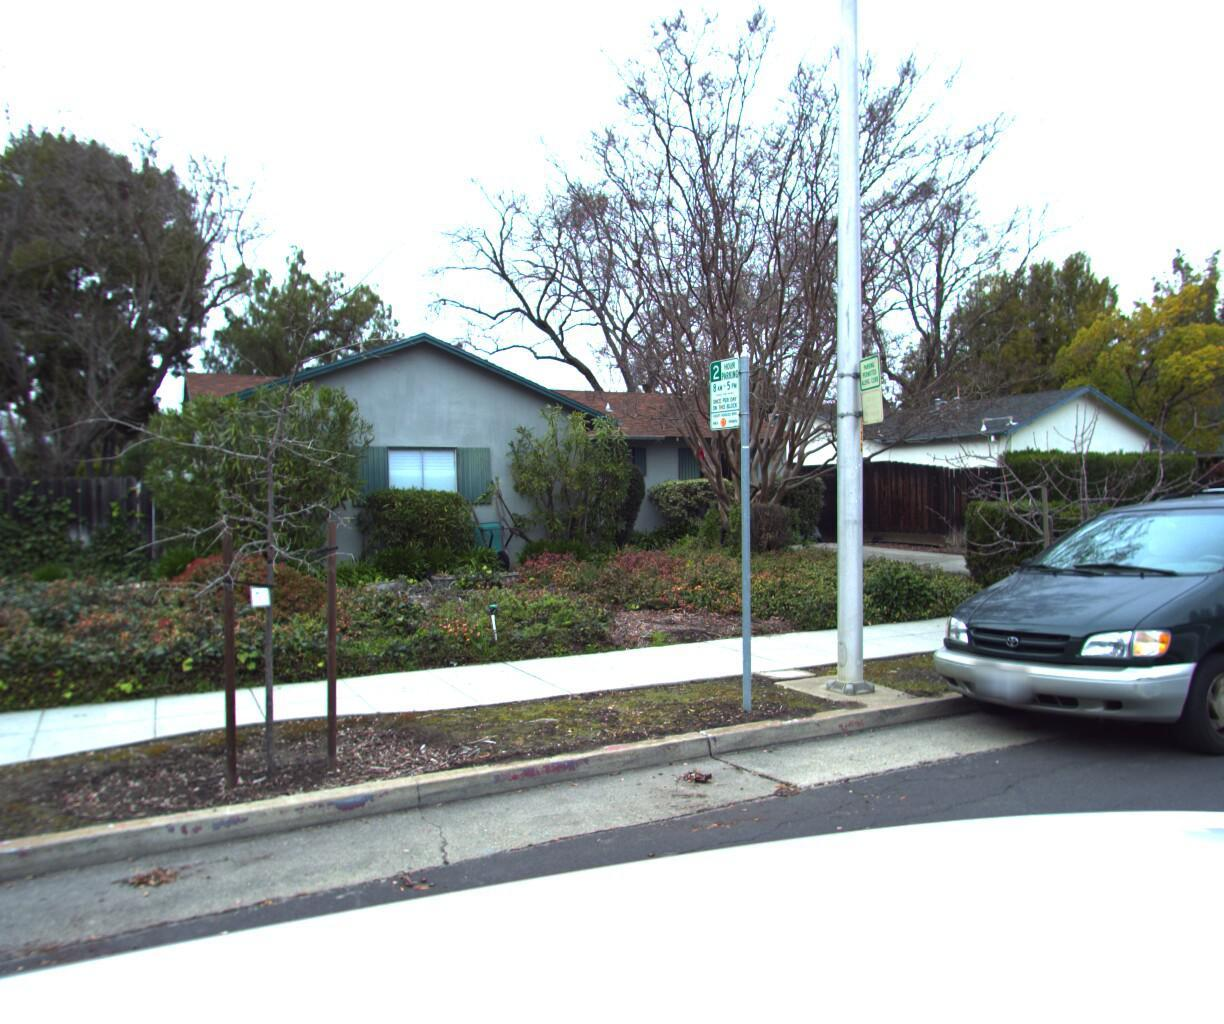car: (879, 473, 1224, 795)
